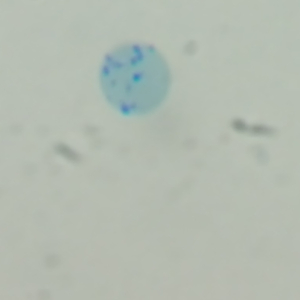aggregate reticulocyte: (97, 42, 174, 117)
